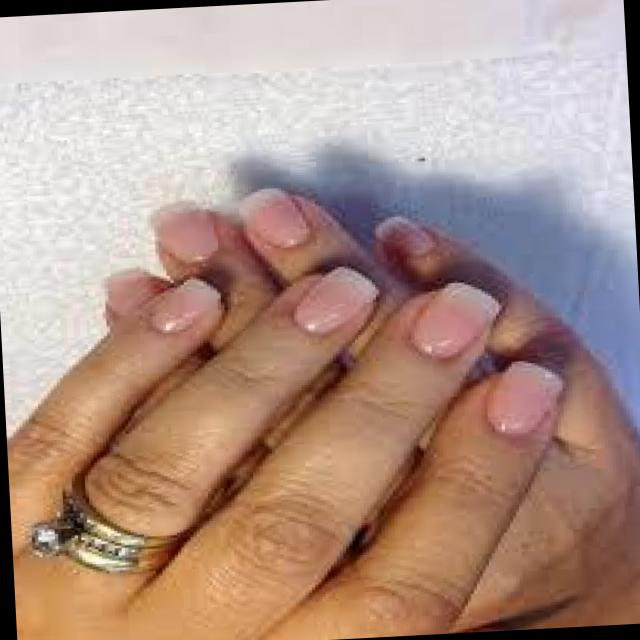Nail: (408, 281, 501, 358), (292, 266, 377, 333), (486, 360, 562, 434), (237, 184, 308, 249), (149, 198, 213, 263), (146, 277, 220, 332), (373, 214, 434, 254), (106, 267, 154, 312)
